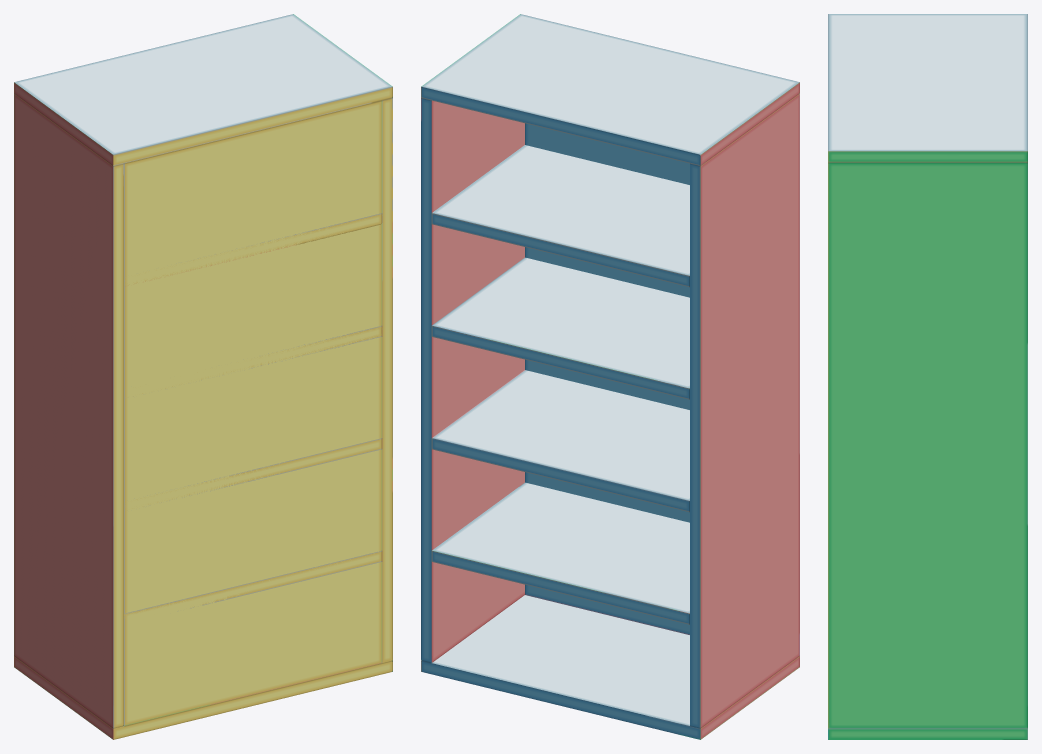
The model's file is Estante.fbx.
3 renders of one model, left to right at view 1: azimuth 30°, elevation 25°; view 2: azimuth 150°, elevation 25°; view 3: azimuth 270°, elevation 25°, orthographic.
Parts seen in each view (by area): view 1: cube_4, cube_3, cube_1, cube_2, cube, cube_5, cube_6, cube_8, cube_7; view 2: cube_3, cube_2, cube_1, cube, cube_5, cube_7, cube_6, cube_8, cube_4; view 3: cube_2, cube_1, cube.
Boxes of the visible parts, box(x1,y1,x2,y2) form: cube_4: box(124, 100, 382, 725); cube_3: box(14, 93, 123, 728); cube_1: box(14, 14, 392, 165); cube_2: box(382, 98, 392, 662); cube: box(14, 656, 392, 739); cube_5: box(124, 550, 382, 618); cube_6: box(124, 438, 382, 510); cube_8: box(124, 213, 382, 286); cube_7: box(126, 325, 382, 398); cube_3: box(690, 93, 799, 728); cube_2: box(421, 98, 524, 662); cube_1: box(421, 14, 799, 165); cube: box(421, 595, 799, 739); cube_5: box(431, 482, 689, 624); cube_7: box(431, 257, 689, 399); cube_6: box(431, 370, 689, 512); cube_8: box(431, 145, 689, 287); cube_4: box(525, 123, 689, 634); cube_2: box(828, 162, 1027, 728); cube_1: box(828, 14, 1027, 162); cube: box(828, 728, 1027, 739).
Bounding box in the file's own units: 162 × 325 × 100.
Materials: 1 (1 with a texture image).
